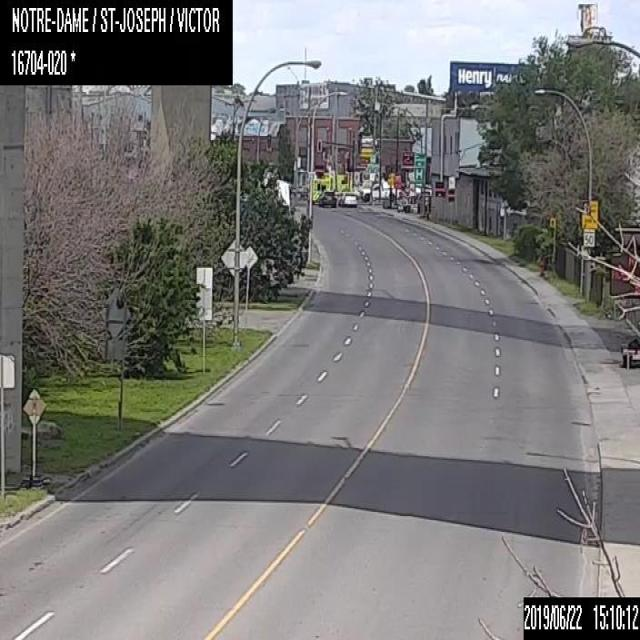construction: (609, 222, 639, 374)
vehicle: (360, 182, 398, 200), (324, 173, 352, 192), (312, 177, 329, 203), (321, 190, 335, 207), (342, 191, 356, 205)
